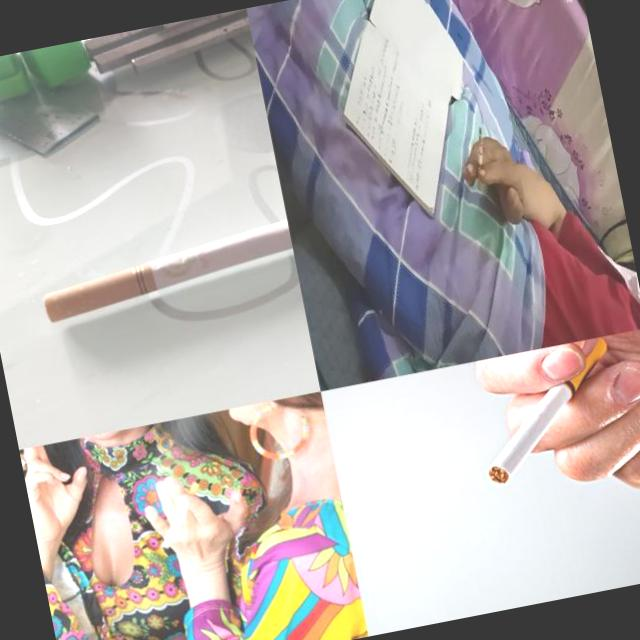smoke: (37, 214, 298, 323), (464, 336, 632, 490), (146, 475, 214, 557), (466, 126, 494, 192)
